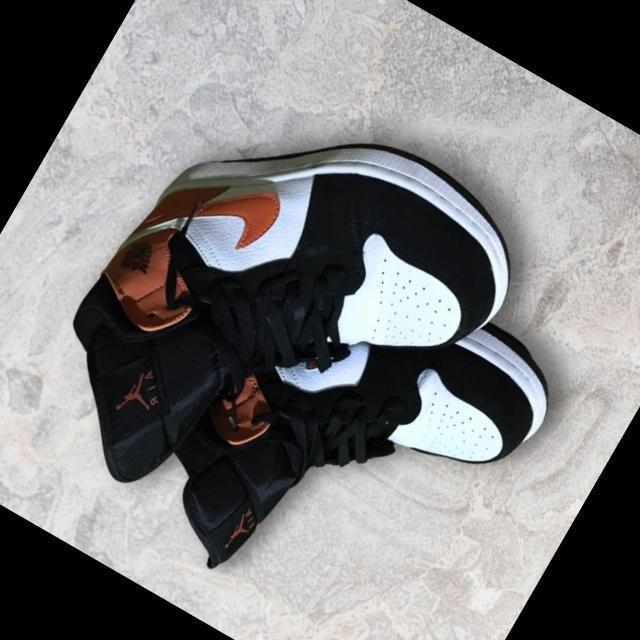nike fake jordan 1: (9, 44, 550, 606), (67, 179, 576, 640)
